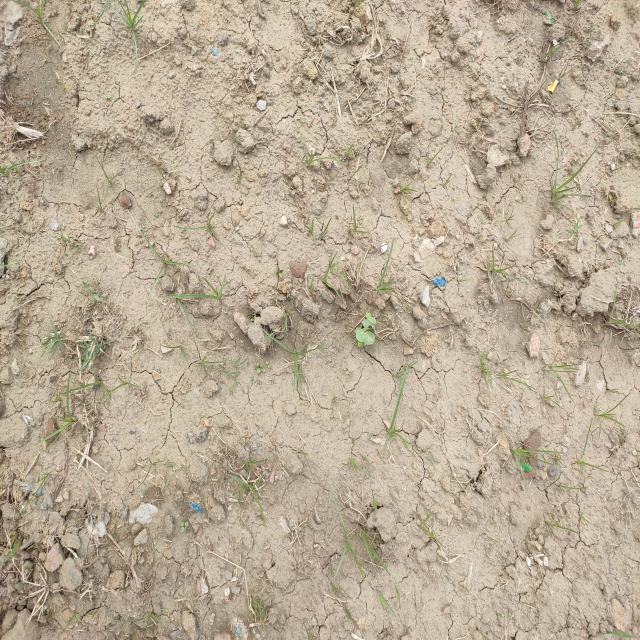seedling_s2: (356, 330, 376, 345), (362, 319, 375, 329), (366, 313, 376, 324)
